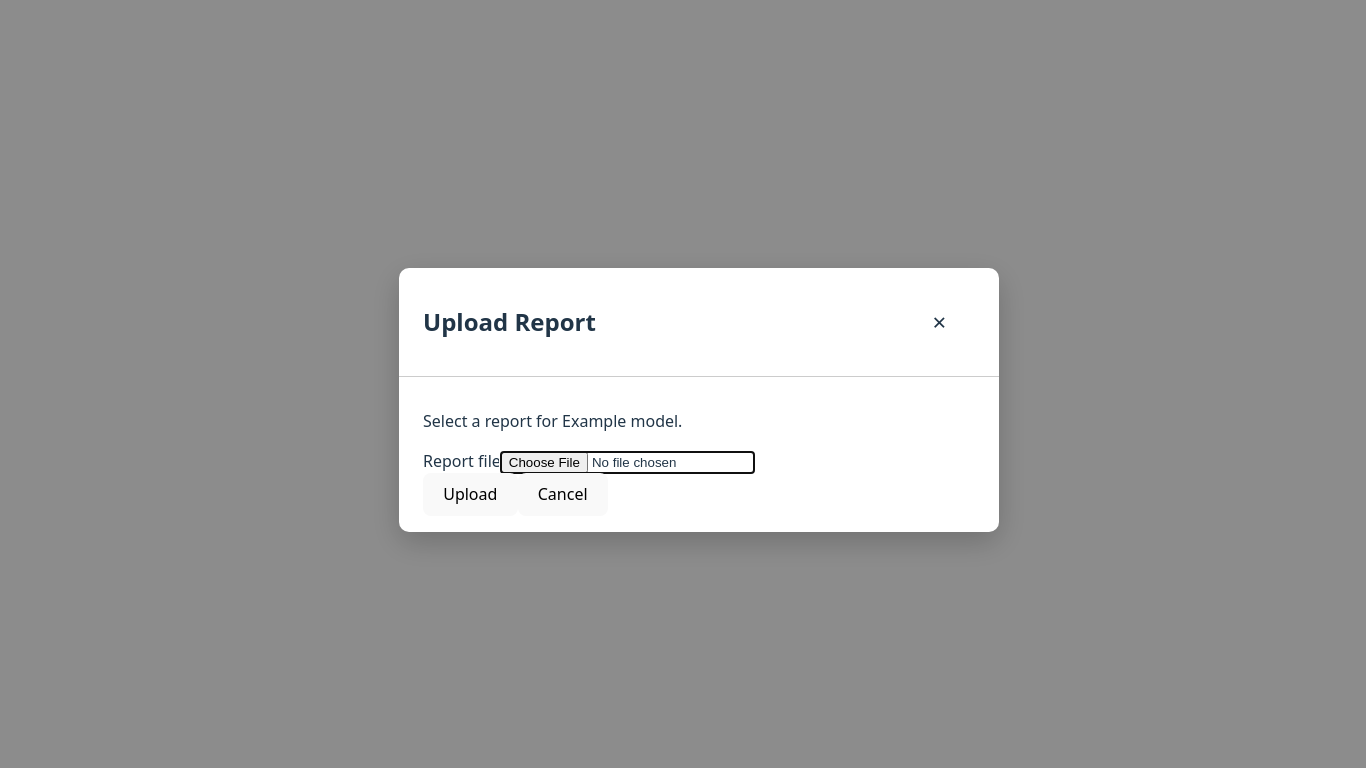
Scenario: ReportUploadModal › requires a report file to be selected before uploading
The width and height of the screenshot is (1366, 768).
Click the button "Upload".
click(470, 494)  # box [423,473,518,516]
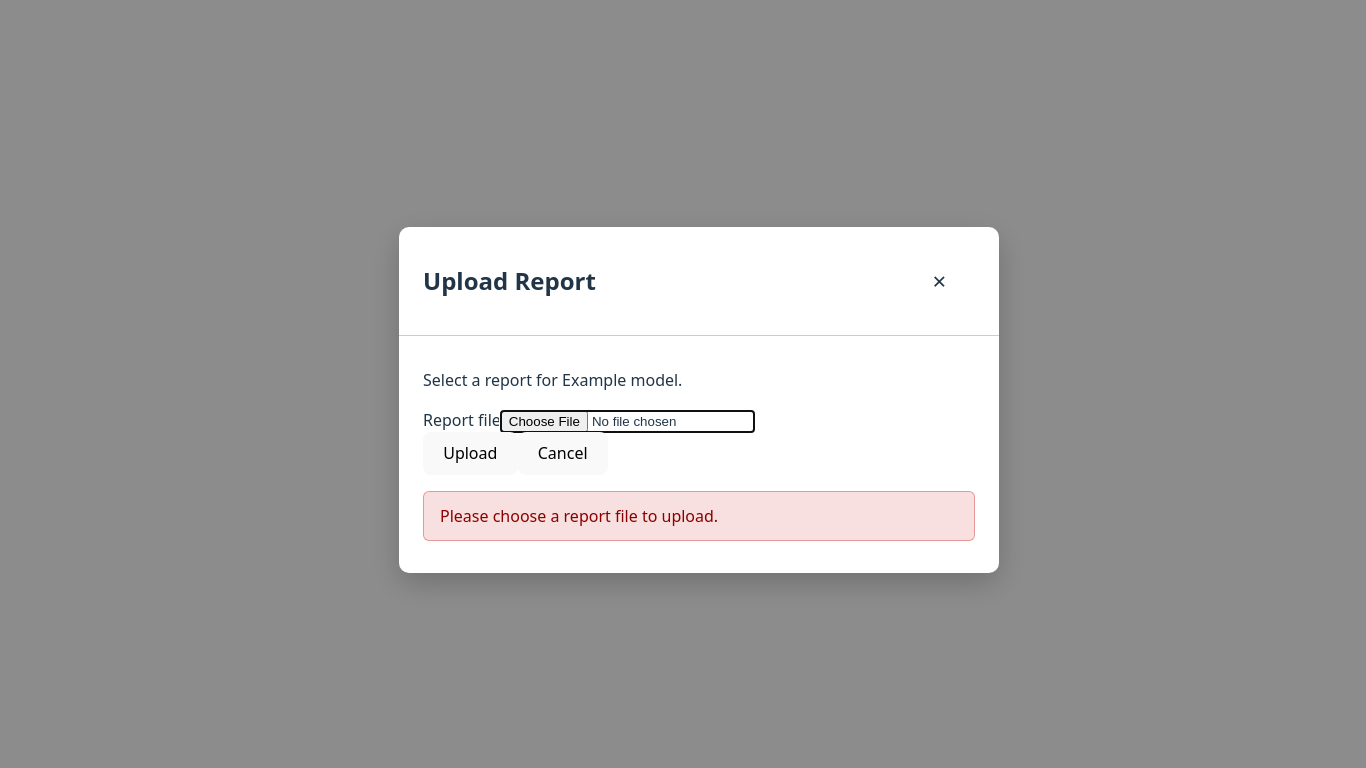
Expected: the text "Please choose a report file to upload." is shown, [423,491,975,541]
